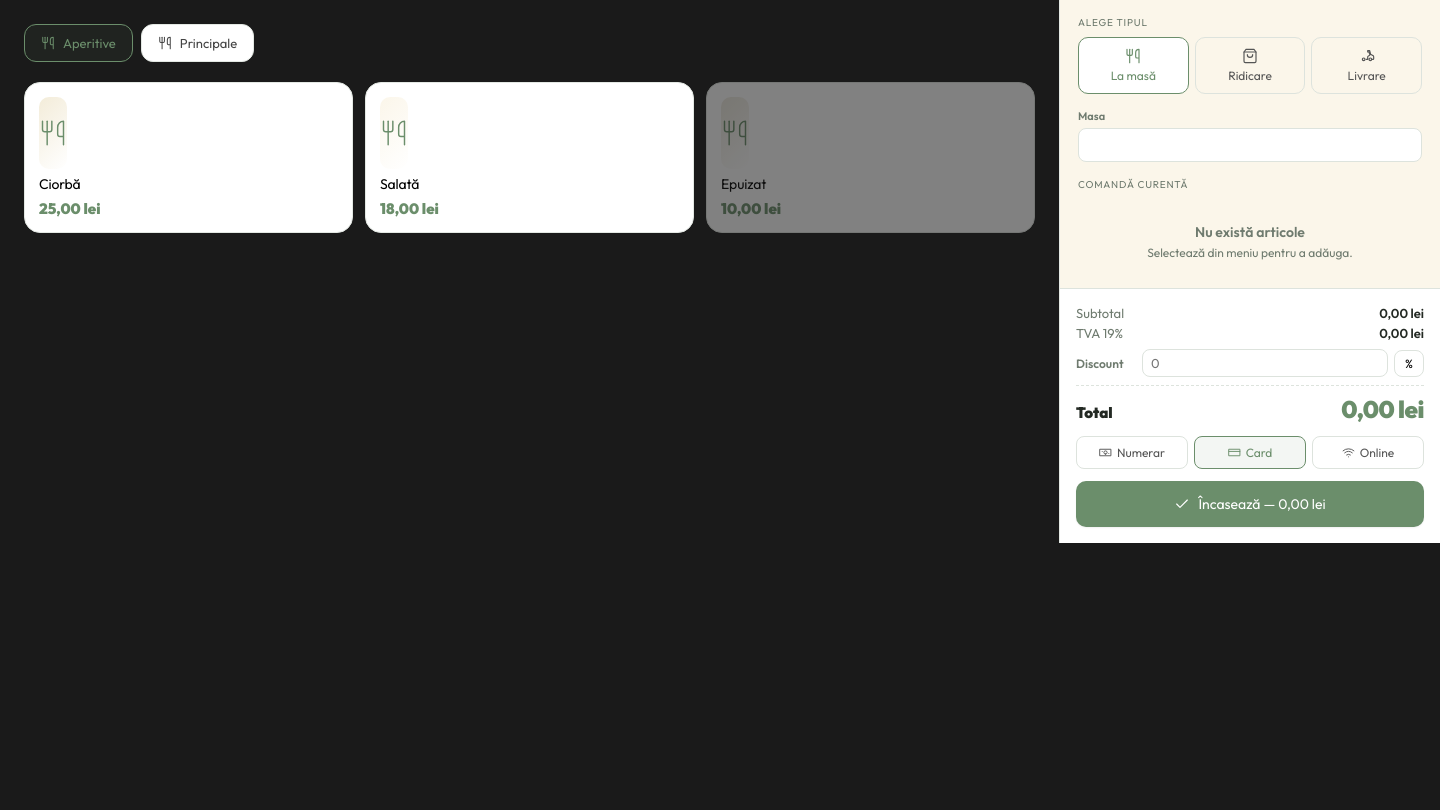
Test: PosScreen › POS-04: order type selection › clicking dinein/pickup/delivery toggles order type state
Expected: the text "Masa" is shown, [1078,109,1105,123]
Note: Click Ridicare (pickup) button
Click the button "Ridicare" at (1250, 66), box [1195,37,1305,94]
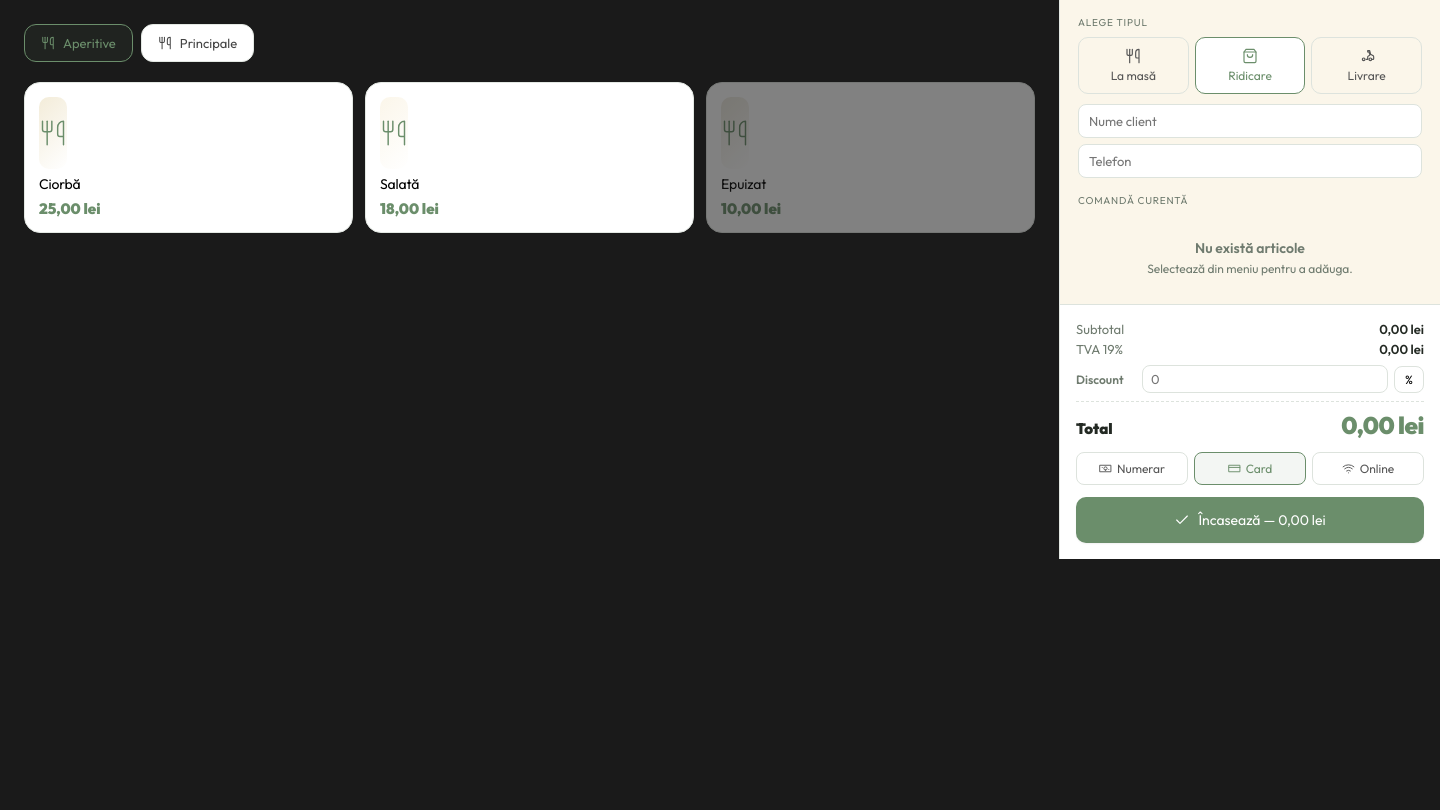
Expected: the text "Masa" is gone
